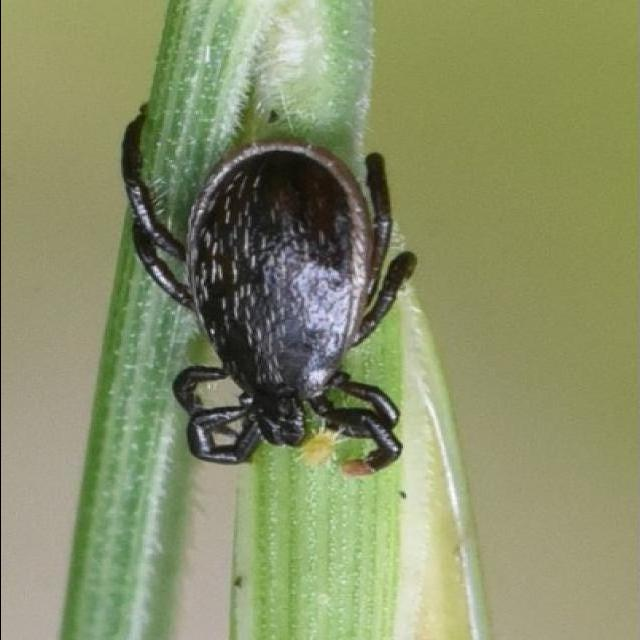Ixodes Ricinus-M: (121, 109, 419, 477)
